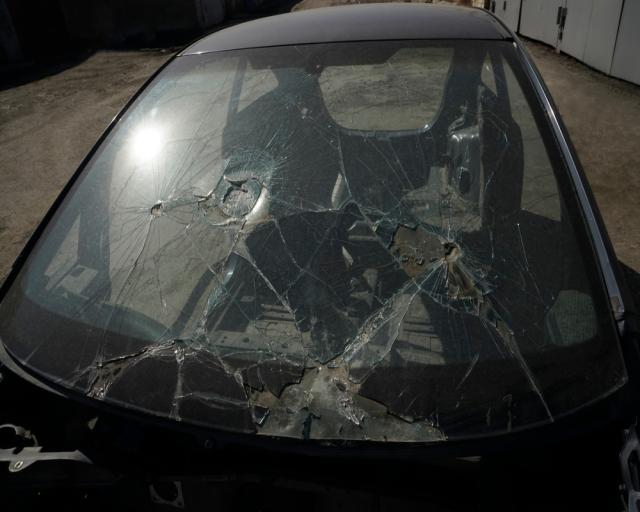glass shatter: (0, 40, 629, 443)
